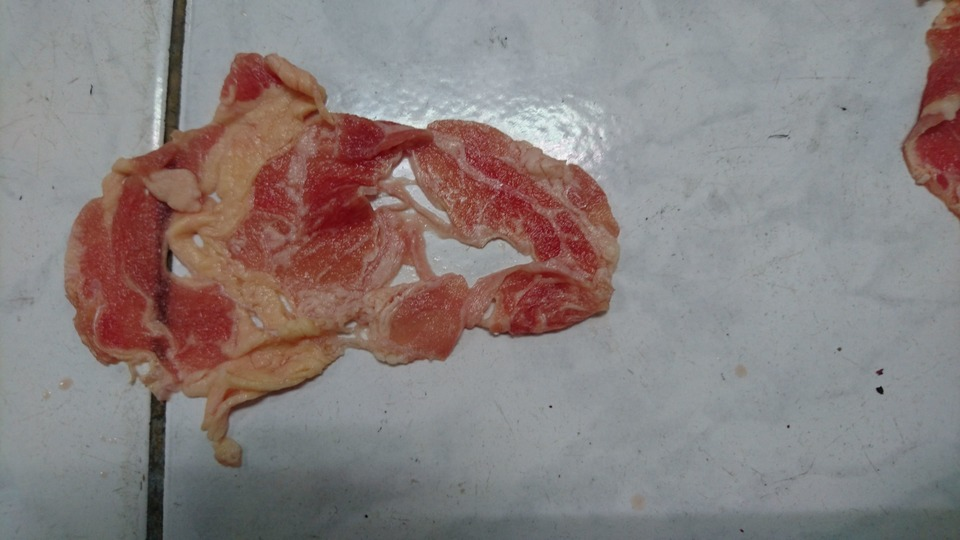restructured meat: (47, 56, 616, 441)
